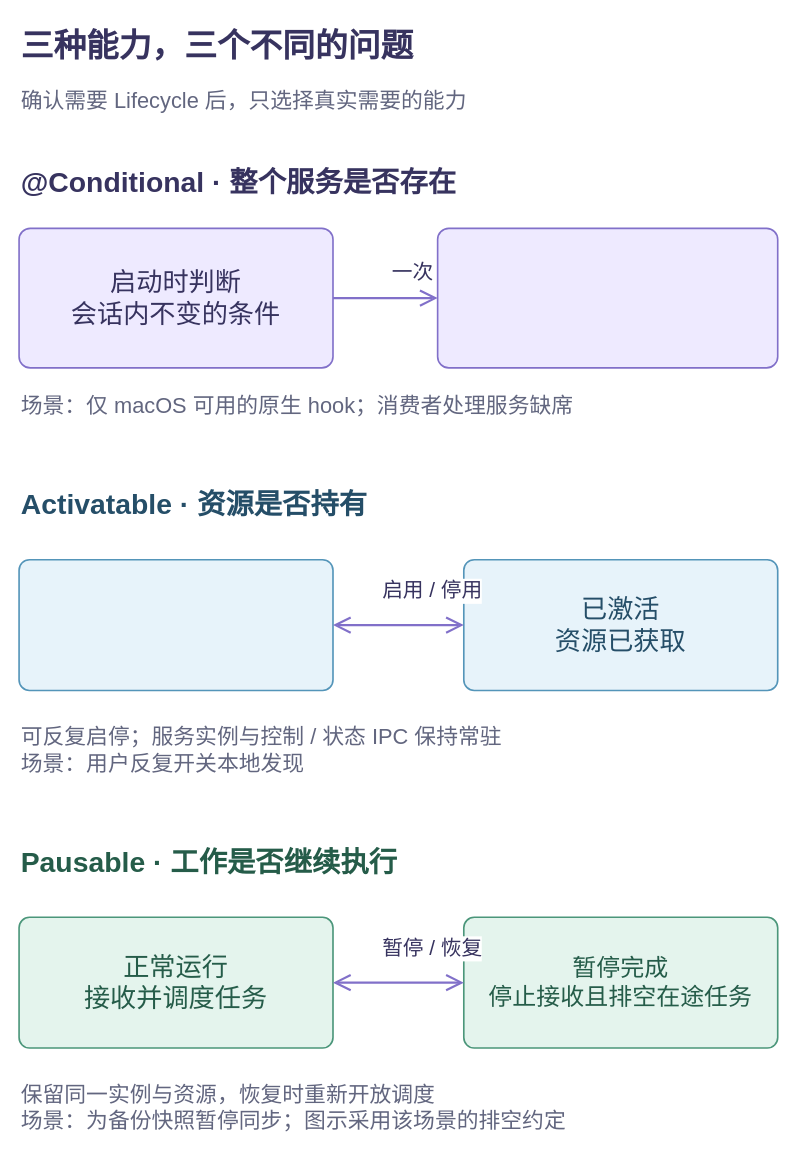
Image size: 798x1162. Some labels were removed from this diagram. Each missing label, with the centre of its shape:
成立：纳入服务 不成立：排除整个服务: point 607,297
未激活 资源已释放: point 175,624
